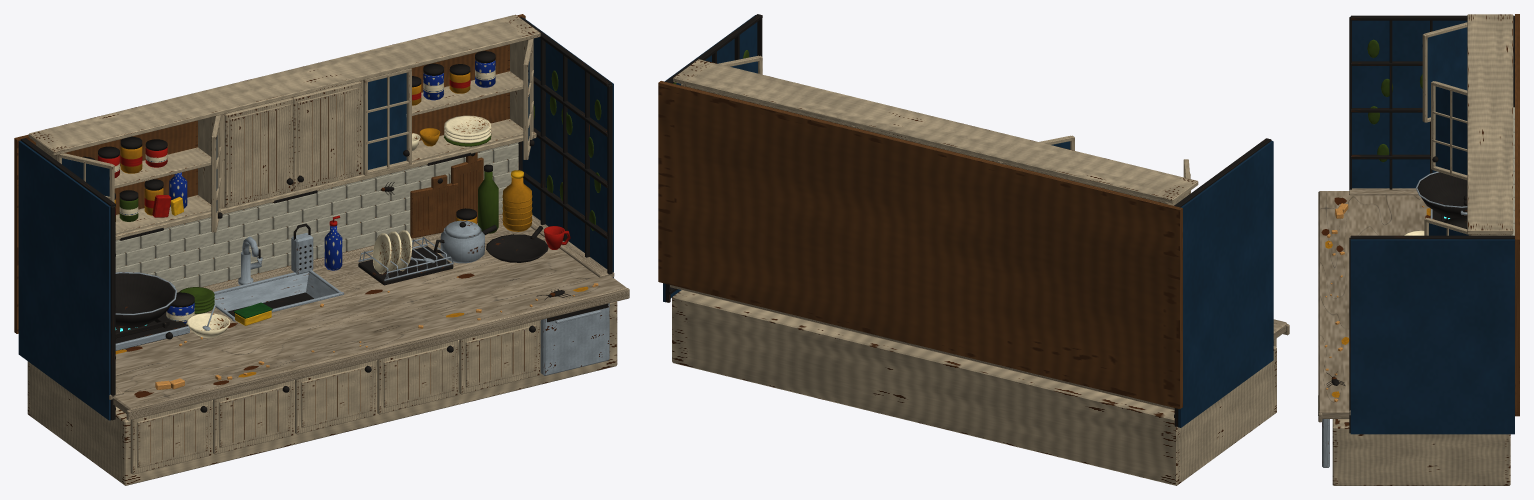
File: Sancar_011_Mutfak_Level.fbx
3 views of the same model, side by side, from view 1: azimuth 30°, elevation 25°; view 2: azimuth 150°, elevation 25°; view 3: azimuth 270°, elevation 25° (orthographic). The views are drawn at different scales.
Visible parts, largest first — view 1: S011_Counter, S011_Cabinets, S011_Wall_Window.001, S011_Wall_Window, S011_Wall_Window.002, S011_Right_Props, S011_Sink, S011_Stove, S011_Small_Details; view 2: S011_Wall_Window, S011_Counter, S011_Wall_Window.001, S011_Cabinets, S011_Wall_Window.002; view 3: S011_Wall_Window.002, S011_Counter, S011_Cabinets, S011_Wall_Window.001, S011_Wall_Window, S011_Stove, S011_Small_Details.
Part boxes in pixels (<box>): S011_Counter: <box>27,214,629,485</box>; S011_Cabinets: <box>28,14,540,240</box>; S011_Wall_Window.001: <box>14,138,123,420</box>; S011_Wall_Window: <box>14,14,525,333</box>; S011_Wall_Window.002: <box>518,17,614,277</box>; S011_Right_Props: <box>358,152,570,285</box>; S011_Sink: <box>213,215,344,325</box>; S011_Stove: <box>115,272,230,350</box>; S011_Small_Details: <box>115,182,598,397</box>; S011_Wall_Window: <box>658,81,1182,408</box>; S011_Counter: <box>670,285,1289,485</box>; S011_Wall_Window.001: <box>1174,138,1273,427</box>; S011_Cabinets: <box>673,55,1198,205</box>; S011_Wall_Window.002: <box>663,14,762,302</box>; S011_Wall_Window.002: <box>1349,235,1519,434</box>; S011_Counter: <box>1318,191,1512,485</box>; S011_Cabinets: <box>1422,14,1513,235</box>; S011_Wall_Window.001: <box>1349,15,1514,195</box>; S011_Wall_Window: <box>1512,14,1519,416</box>; S011_Stove: <box>1403,171,1467,235</box>; S011_Small_Details: <box>1321,197,1430,401</box>.
Size of the model in its own units: 1920 by 1011 by 725.
